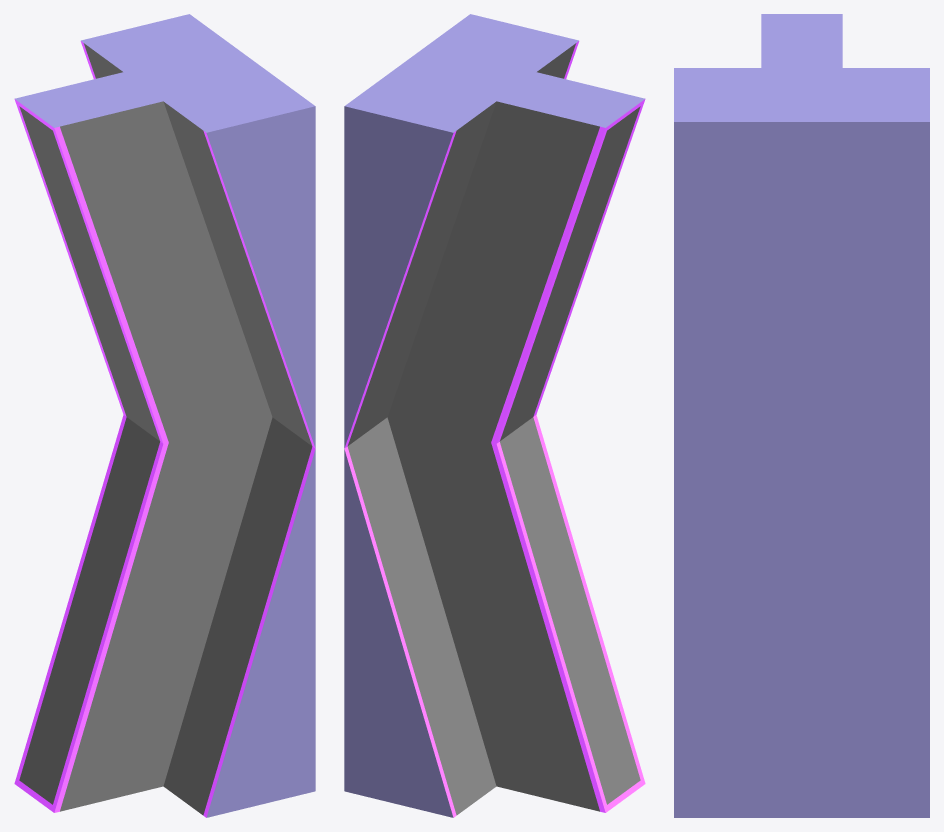
File: TunnelBeam.FBX
The picture shows the model from 3 angles, left to right: view 1: azimuth 30°, elevation 25°; view 2: azimuth 150°, elevation 25°; view 3: azimuth 270°, elevation 25°; orthographic projection.
Visible parts, largest first — view 1: TunnelBeam; view 2: TunnelBeam; view 3: TunnelBeam.
Part boxes in pixels (left/top/right/bottom): TunnelBeam: left=14, top=14, right=315, bottom=817; TunnelBeam: left=344, top=14, right=645, bottom=817; TunnelBeam: left=674, top=14, right=929, bottom=817.
Size of the model in its own units: 100 by 100 by 300.
